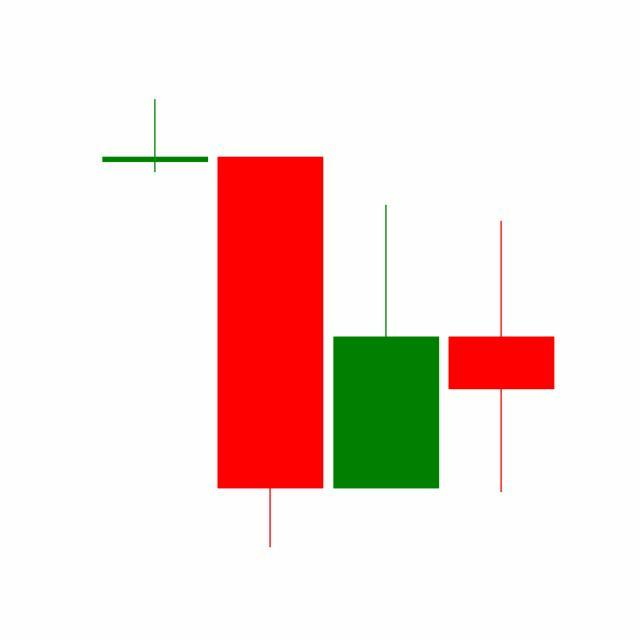Spinning Top: (444, 218, 560, 496)
